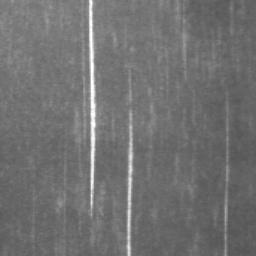Bright scratch: (89, 0, 96, 208), (127, 113, 133, 256), (225, 98, 229, 256)
